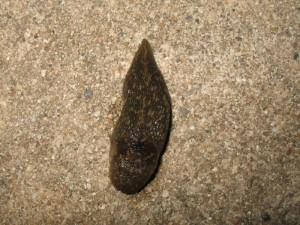slug: (92, 21, 178, 195)
